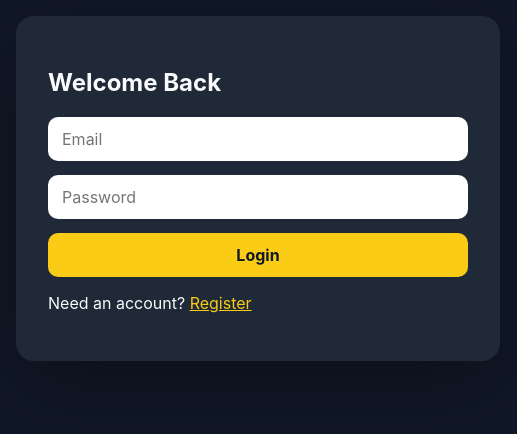
Test: Auth Flow - Register, Login, and Logout › TC7 - Wrong password on login shows error message
Step 1. Type "bob@test.com" into the field with test id "email-input" → (258, 139), box [48,117,468,161]
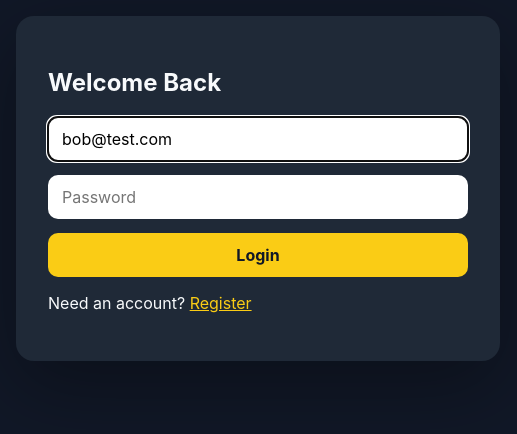
Step 2. Type "wrongpass" into the password field with test id "password-input" → (258, 197), box [48,175,468,219]
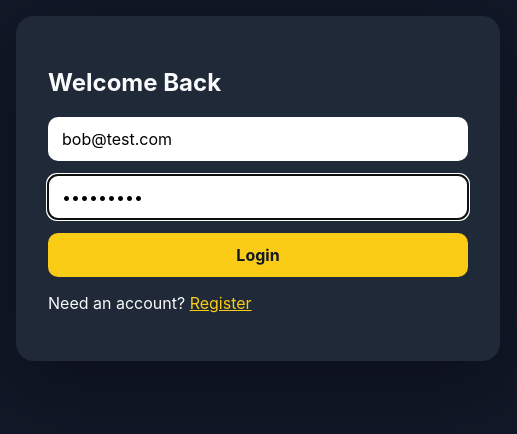
Step 3. Click the button with test id "login-btn" → (258, 255), box [48,233,468,277]
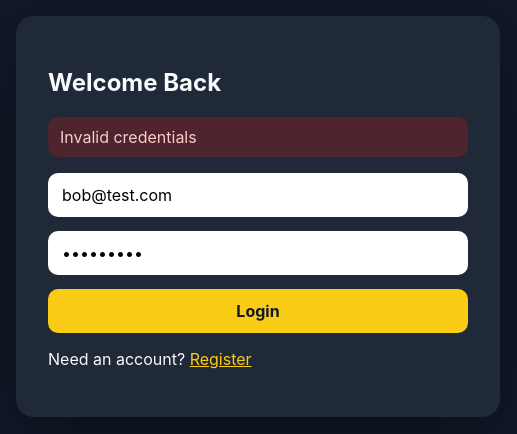
Result: the text with test id "error-msg" reads "Invalid credentials" at [60,127,197,147]
